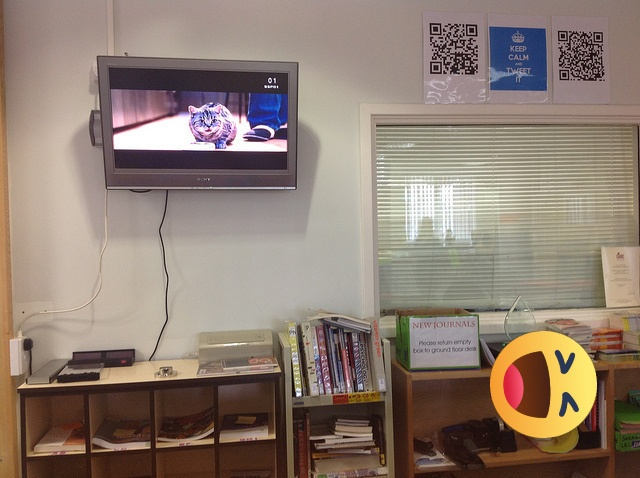haha: (490, 331, 597, 438)
